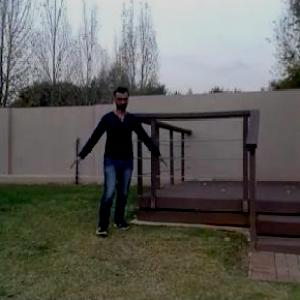land: (66, 76, 170, 254)
